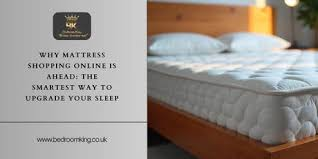bed-matress: (147, 45, 318, 145)
